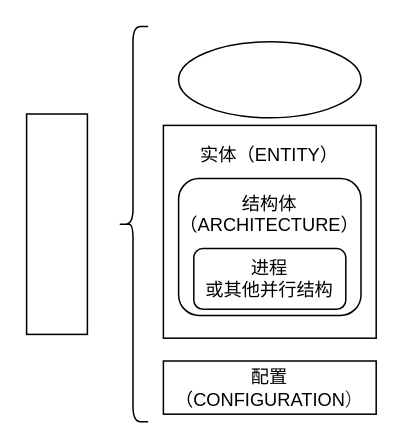
Image size: 403x448. Some labels were removed from this diagram. Each missing label, with the box of its shape:
库，程序包: (177, 40, 361, 118)
设 计 实 体: (25, 112, 87, 334)
